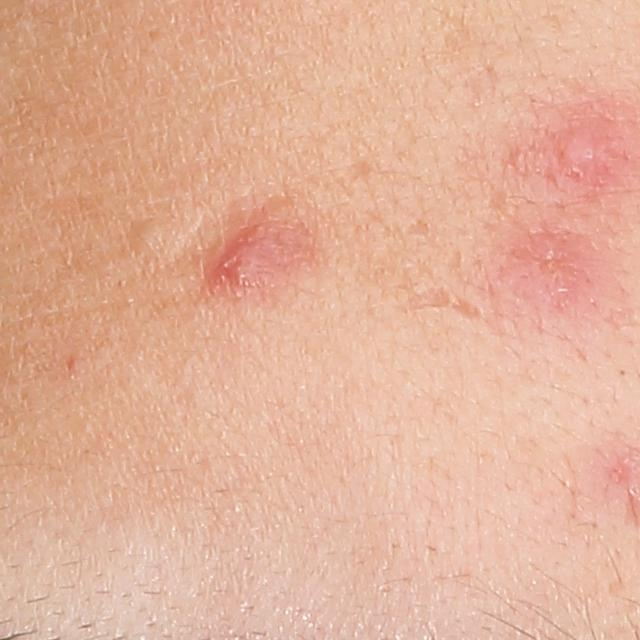atrophic_scar: (404, 285, 486, 321)
papule: (200, 213, 316, 302), (546, 111, 602, 184)
